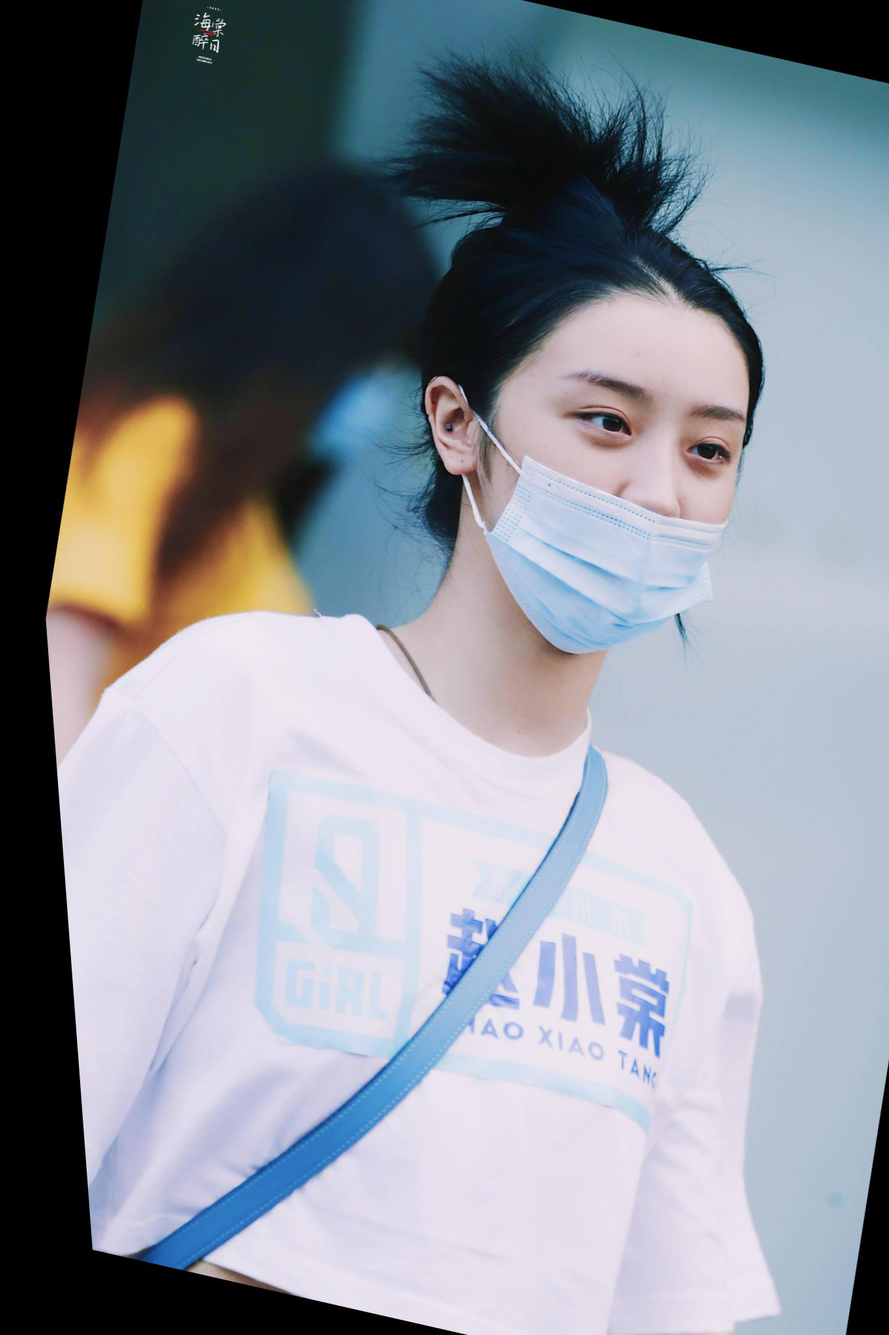WRONG: (429, 325, 763, 689)
